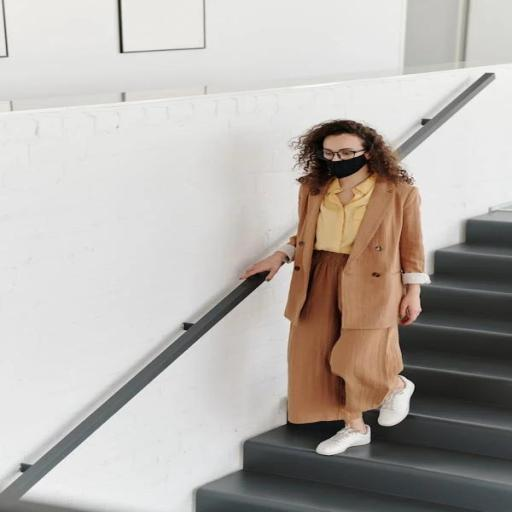mask: (302, 132, 376, 175)
